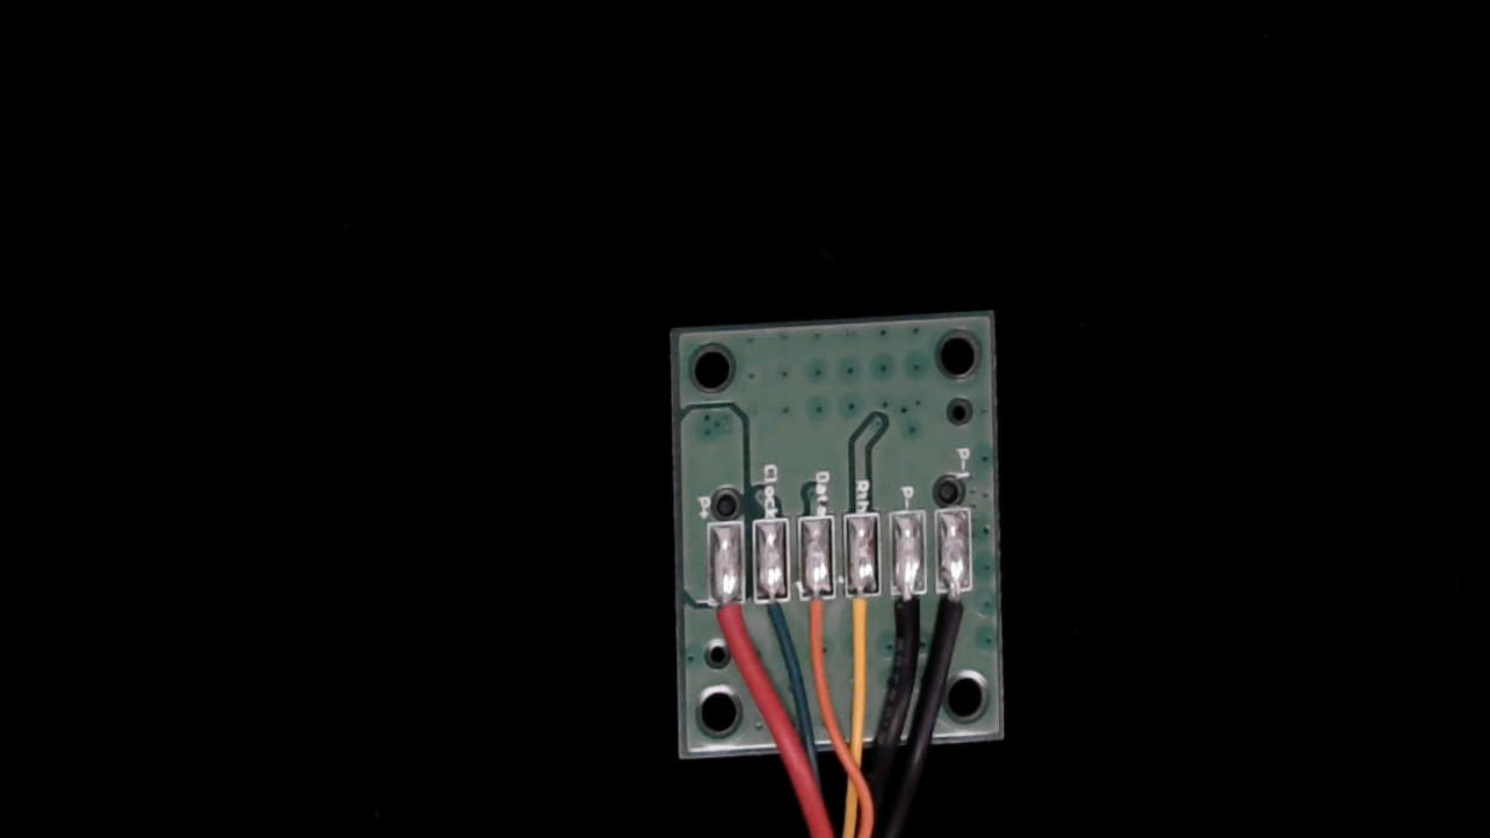Black: (886, 567, 927, 664)
Black1: (938, 565, 978, 654)
Green: (751, 581, 793, 648)
Orange: (796, 575, 834, 671)
Red: (706, 576, 746, 669)
Yellow: (840, 573, 881, 670)
